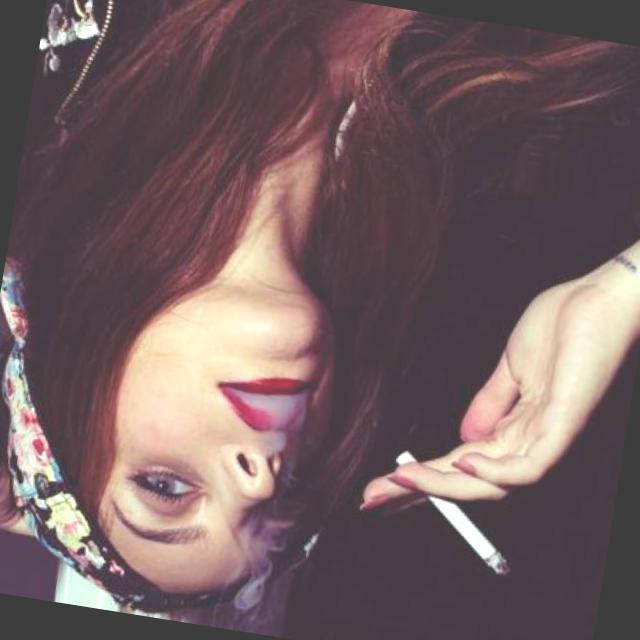cigarette: (374, 441, 536, 587)
